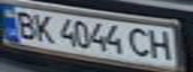0: (72, 19, 90, 49)
4: (87, 20, 109, 52), (106, 22, 127, 55), (54, 16, 75, 47)
B: (9, 8, 39, 39)
C: (124, 25, 154, 58)
H: (145, 27, 178, 61)
K: (30, 11, 57, 44)
